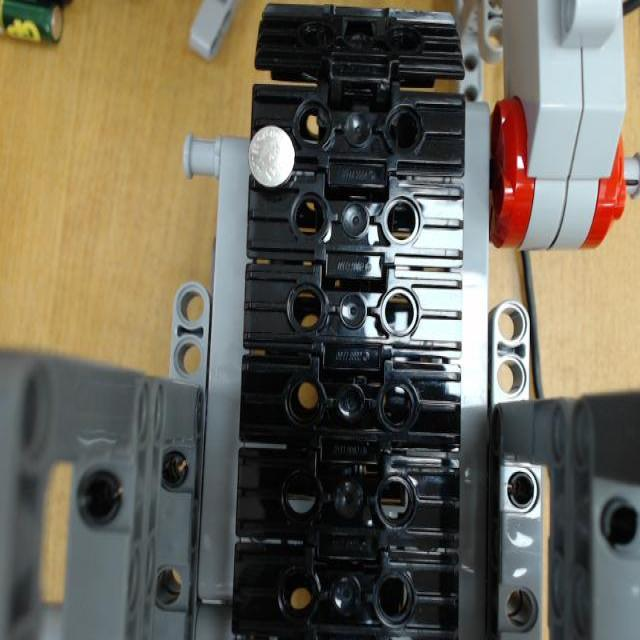COIN: (248, 124, 294, 189)
